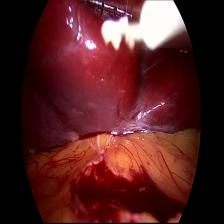Hook: (102, 0, 183, 64)
